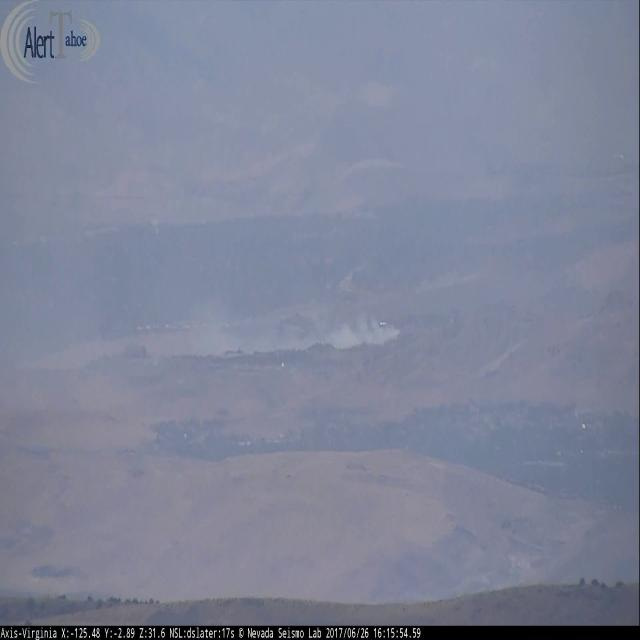smoke: (328, 314, 402, 352)
